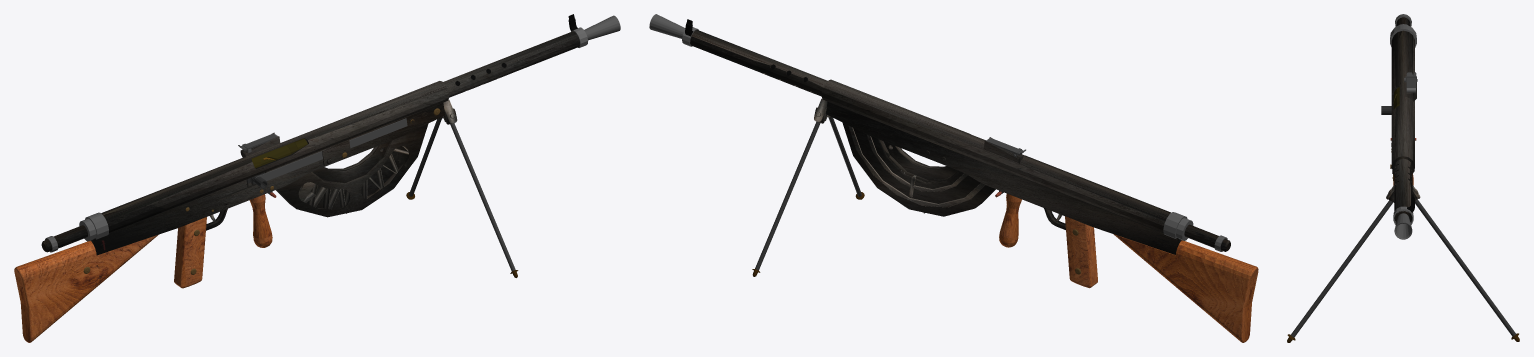
File: chauchat.glb
3 views of the same model, side by side, from view 1: azimuth 30°, elevation 25°; view 2: azimuth 150°, elevation 25°; view 3: azimuth 270°, elevation 25° (orthographic). The views are drawn at different scales.
Parts seen in each view (by area): view 1: Object_7, Object_2, Object_56, Object_5, Object_58, Object_21, Object_38, Object_6, Object_57, Object_47, Object_10; view 2: Object_7, Object_56, Object_2, Object_5, Object_58, Object_6, Object_24, Object_9, Object_47, Object_22, Object_10; view 3: Object_7, Object_57, Object_9, Object_10, Object_34.
Boxes of the visible parts, x1,y1,x2,y2 form: Object_7: (41, 31, 579, 252); Object_2: (14, 234, 158, 342); Object_56: (87, 102, 444, 255); Object_5: (276, 123, 428, 217); Object_58: (174, 217, 206, 288); Object_21: (298, 146, 408, 213); Object_38: (254, 118, 407, 182); Object_6: (312, 141, 390, 183); Object_57: (450, 123, 515, 271); Object_47: (249, 194, 271, 238); Object_10: (584, 15, 620, 40); Object_7: (690, 30, 1230, 251); Object_56: (826, 101, 1181, 254); Object_2: (1113, 234, 1258, 342); Object_5: (842, 122, 995, 216); Object_58: (1065, 216, 1097, 288); Object_6: (883, 141, 958, 180); Object_24: (848, 125, 984, 207); Object_9: (755, 121, 820, 270); Object_47: (1000, 193, 1021, 238); Object_22: (867, 135, 967, 191); Object_10: (649, 14, 685, 38); Object_7: (1391, 17, 1416, 223); Object_57: (1291, 200, 1392, 337); Object_9: (1415, 199, 1515, 336); Object_10: (1394, 213, 1412, 239); Object_34: (1390, 24, 1416, 47).
Size of the model in its own units: 79.64 by 24.51 by 24.73.
Materials: 57 (17 with a texture image).
